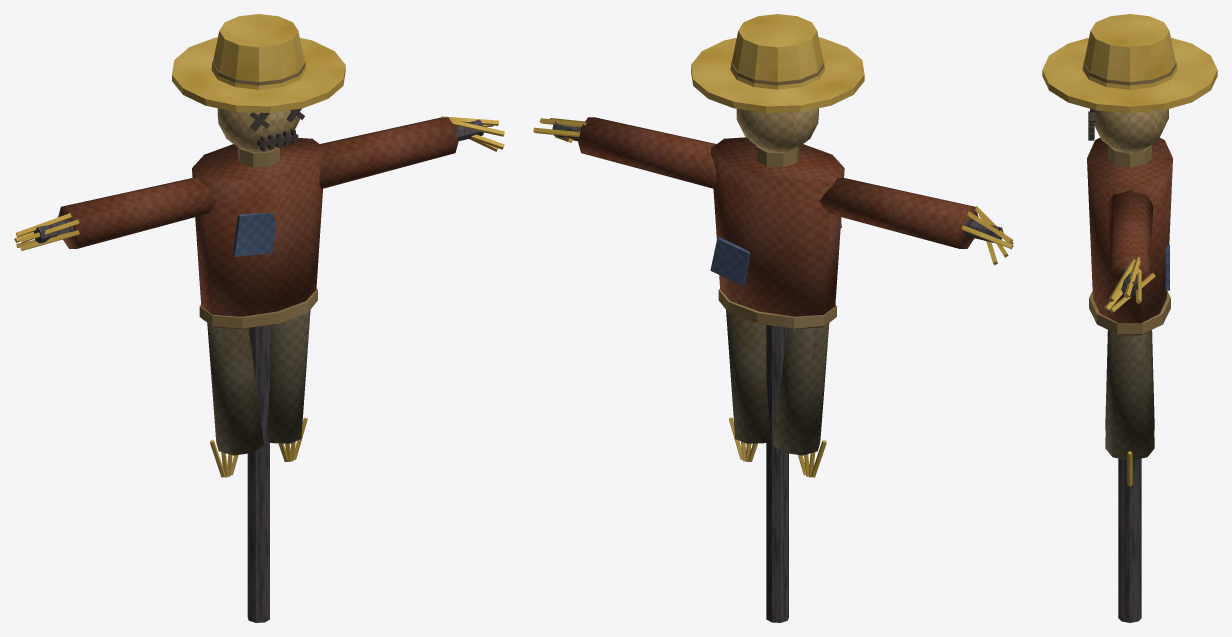
File: scarcrow.glb
The picture shows the model from 3 angles, left to right: view 1: azimuth 30°, elevation 25°; view 2: azimuth 150°, elevation 25°; view 3: azimuth 270°, elevation 25°; orthographic projection.
Parts seen in each view (by area): view 1: cylinder; view 2: cylinder; view 3: cylinder.
Part boxes in pixels (x1=…): cylinder: x1=14, y1=14, x2=504, y2=622; cylinder: x1=533, y1=14, x2=1013, y2=622; cylinder: x1=1042, y1=14, x2=1217, y2=622.
Size of the model in its own units: 1.64 by 1.92 by 0.5197.
8 materials, 7 textured.
